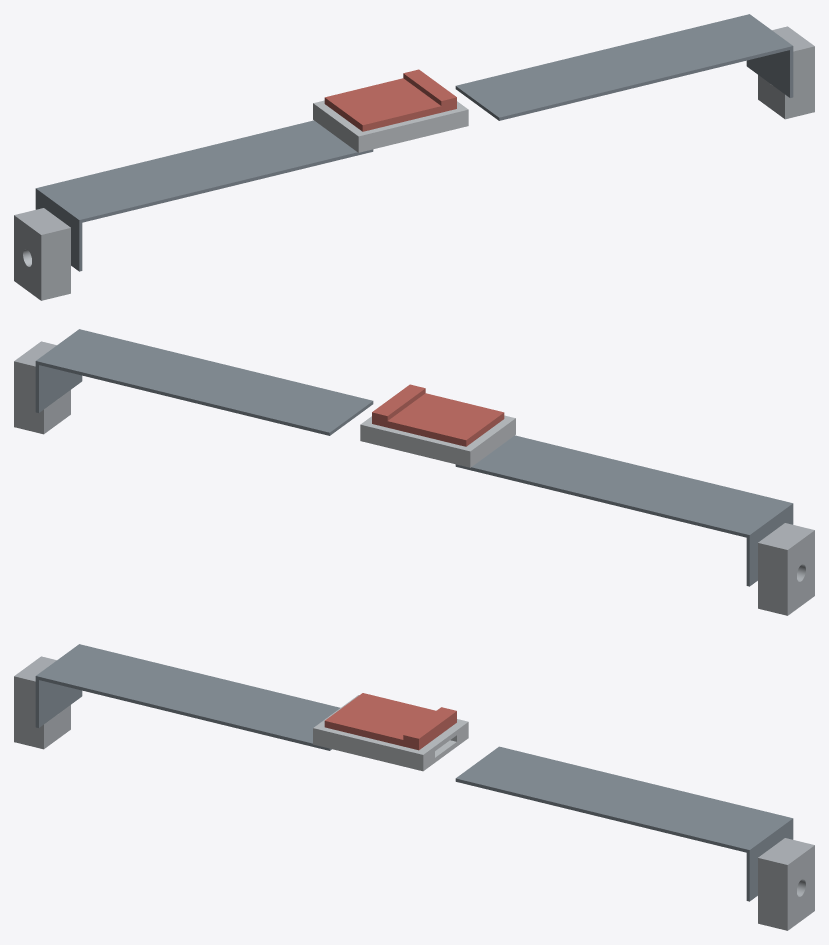
Rendered from step_03.glb.
The picture shows the model from 3 angles, top to bottom: view 1: azimuth 30°, elevation 25°; view 2: azimuth 150°, elevation 25°; view 3: azimuth 330°, elevation 25°; orthographic projection.
Visible parts, largest first — view 1: part__belt webbing, adjuster side, part__belt webbing, buckle side, part__buckle lift lever, part__belt anchor, left, part__buckle body, part__belt anchor, right; view 2: part__belt webbing, adjuster side, part__belt webbing, buckle side, part__buckle lift lever, part__belt anchor, left, part__buckle body, part__belt anchor, right; view 3: part__belt webbing, adjuster side, part__belt webbing, buckle side, part__belt anchor, right, part__buckle lift lever, part__buckle body, part__belt anchor, left.
Boxes of the visible parts, x1,y1,x2,y2 form: part__belt webbing, adjuster side: (455,14,793,120); part__belt webbing, buckle side: (35,120,373,271); part__buckle lift lever: (324,69,456,131); part__belt anchor, left: (14,208,70,300); part__buckle body: (313,100,468,152); part__belt anchor, right: (758,26,814,119); part__belt webbing, adjuster side: (35,329,373,435); part__belt webbing, buckle side: (455,435,793,586); part__buckle lift lever: (372,384,504,446); part__belt anchor, left: (758,523,814,615); part__buckle body: (360,415,515,467); part__belt anchor, right: (14,341,70,434); part__belt webbing, adjuster side: (455,746,793,901); part__belt webbing, buckle side: (35,644,340,750); part__belt anchor, right: (758,838,814,930); part__buckle lift lever: (324,693,456,750); part__buckle body: (313,695,468,771); part__belt anchor, left: (14,656,70,749).
Bounding box in the file's own units: 492 × 65.27 × 50.
